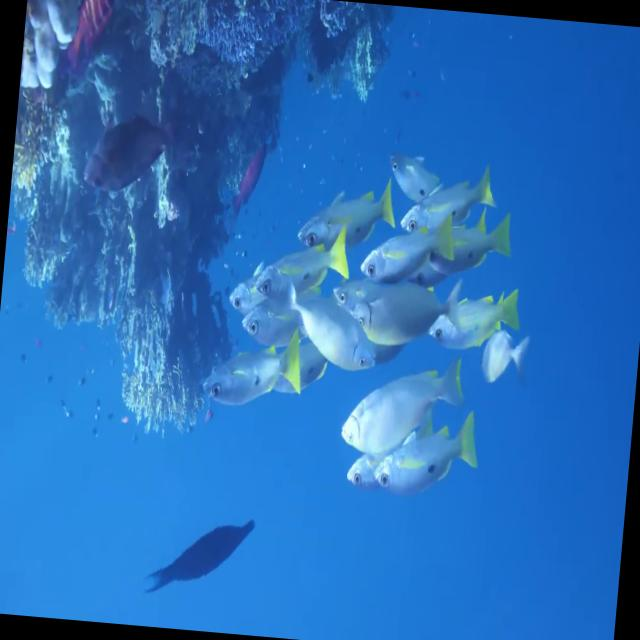fish: (338, 344, 468, 467), (136, 506, 266, 612), (371, 402, 491, 505), (272, 280, 388, 384), (190, 320, 308, 420), (395, 146, 503, 255), (348, 269, 469, 365), (296, 162, 404, 266), (78, 112, 184, 208), (428, 281, 534, 363), (254, 231, 356, 316), (352, 213, 438, 297), (431, 212, 521, 292), (380, 141, 450, 213), (474, 318, 538, 394), (62, 0, 120, 77), (240, 296, 307, 350), (222, 280, 268, 328), (336, 455, 382, 502)
